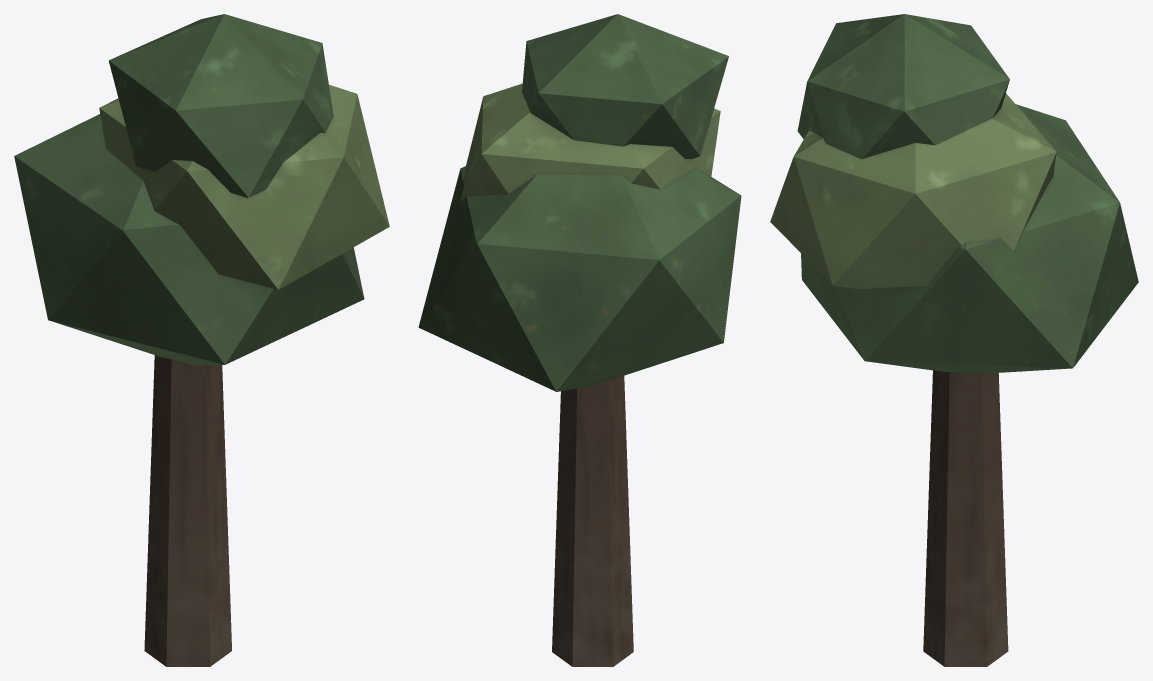
Rendered from arvore_campina_a.glb.
The picture shows the model from 3 angles, left to right: view 1: azimuth 30°, elevation 25°; view 2: azimuth 150°, elevation 25°; view 3: azimuth 270°, elevation 25°; orthographic projection. The views are drawn at different scales.
Visible parts, largest first — view 1: arvore_campina_a; view 2: arvore_campina_a; view 3: arvore_campina_a.
Part boxes in pixels (left/top/right/bottom): arvore_campina_a: left=14, top=14, right=389, bottom=666; arvore_campina_a: left=418, top=14, right=741, bottom=666; arvore_campina_a: left=770, top=14, right=1138, bottom=666.
Bounding box in the file's own units: 0.672 × 1.49 × 0.7796.
1 material, 1 textured.
